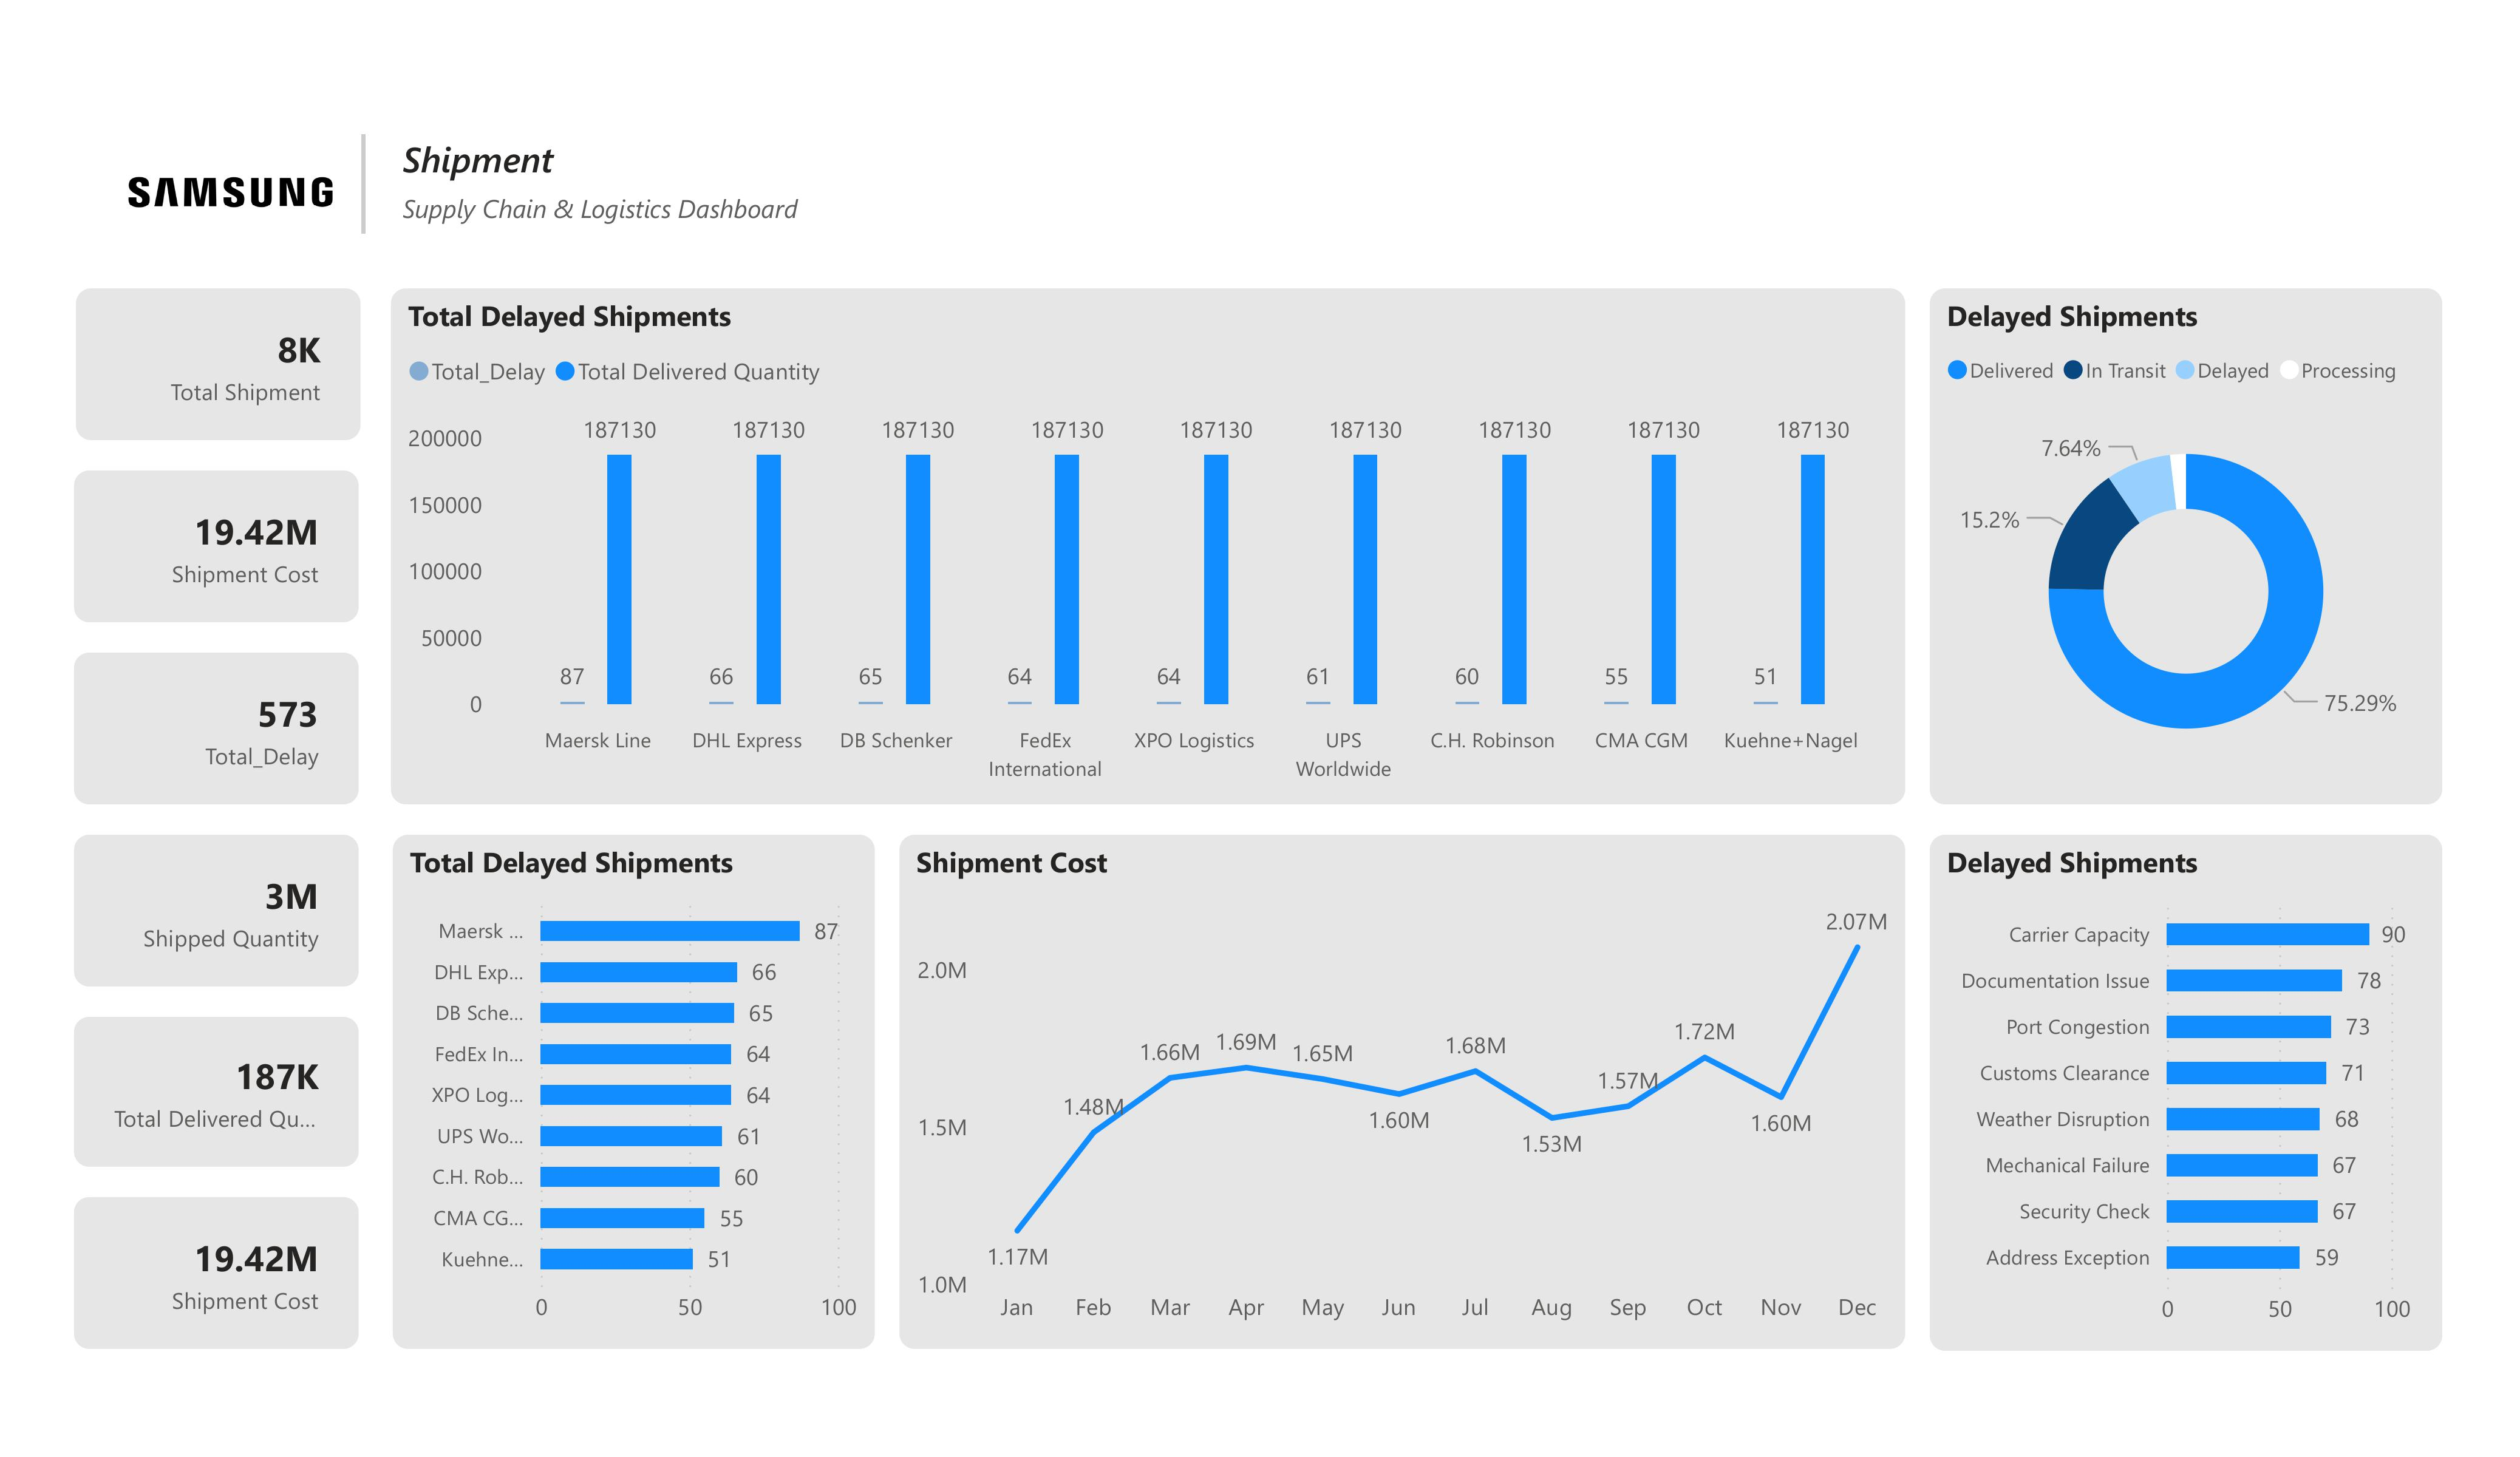

Layout of this report page (visuals, bound fields, positions):
{"tool":"powerbi","page":{"name":"Shipment","canvas":[1280,720],"ordinal":4},"visuals":[{"type":"textbox","title":"Shipment","box":[182.9,46.7,228.6,52.5],"z":0},{"type":"shape","box":[151.8,46.7,31.1,52.5],"z":1000},{"type":"image","box":[35,46.7,120,60],"z":2000},{"type":"cardVisual","fields":{"Data":["CountNonNull(fact_shipment.customer_id)"]},"box":[15.4,223.8,150,80],"z":3000},{"type":"cardVisual","fields":{"Data":["MeasureTable.Total_Delay"]},"box":[15.4,319.8,150,80],"z":4000},{"type":"cardVisual","fields":{"Data":["MeasureTable.Total_Shipment_Quantity"]},"box":[15.5,415.8,149.8,79.8],"z":5000},{"type":"cardVisual","fields":{"Data":["MeasureTable.Total Delivered Quantity"]},"box":[15.5,511.6,149.8,79.8],"z":6000},{"type":"cardVisual","fields":{"Data":["Sum(fact_shipment.shipping_cost)"]},"box":[15.5,607.4,149.8,79.8],"z":7000},{"type":"cardVisual","fields":{"Data":["MeasureTable.Total Shipment"]},"box":[15.6,127.8,150,80],"z":8000},{"type":"barChart","title":"Total Delayed Shipments","fields":{"Y":["MeasuresTable.Total_Detaly"],"Category":["fact_shipment.carrier"]},"box":[182.7,415.9,254.5,271.3],"z":9000},{"type":"clusteredColumnChart","title":"Total Delayed Shipments","fields":{"Category":["fact_shipment.carrier"],"Y":["MeasureTable.Total_Delay","MeasureTable.Total Delivered Quantity"]},"box":[182.2,127.8,797.8,272.2],"z":10000},{"type":"lineChart","title":"Shipment Cost","fields":{"Y":["MeasureTable.Shipment Cost"],"Category":["dim_date.Month_Name_Short"]},"box":[450.2,415.6,530,271.1],"z":11000},{"type":"barChart","title":"Delayed Shipments","fields":{"Y":["MeasuresTable.Total_Detaly"],"Category":["fact_shipment.delay_reason"]},"box":[993.3,415.6,270,272.2],"z":12000},{"type":"donutChart","title":"Delayed Shipments","fields":{"Category":["fact_shipment.status"],"Y":["MeasureTable.Total Shipment"]},"box":[993.3,127.8,270,272.2],"z":13000}]}

Visuals, with their boxes on the page's 1280x720 design canvas (x1, y1, x2, y2). These are canvas units, not pixel positions in the 2520x1457 screenshot, which may show the page scaled, cropped or inside an application window:
"Shipment" textbox: crop(183, 47, 412, 99)
shape: crop(152, 47, 183, 99)
image: crop(35, 47, 155, 107)
cardVisual - CountNonNull(fact_shipment.customer_id): crop(15, 224, 165, 304)
cardVisual - MeasureTable.Total_Delay: crop(15, 320, 165, 400)
cardVisual - MeasureTable.Total_Shipment_Quantity: crop(16, 416, 165, 496)
cardVisual - MeasureTable.Total Delivered Quantity: crop(16, 512, 165, 591)
cardVisual - Sum(fact_shipment.shipping_cost): crop(16, 607, 165, 687)
cardVisual - MeasureTable.Total Shipment: crop(16, 128, 166, 208)
"Total Delayed Shipments" barChart: crop(183, 416, 437, 687)
"Total Delayed Shipments" clusteredColumnChart: crop(182, 128, 980, 400)
"Shipment Cost" lineChart: crop(450, 416, 980, 687)
"Delayed Shipments" barChart: crop(993, 416, 1263, 688)
"Delayed Shipments" donutChart: crop(993, 128, 1263, 400)
